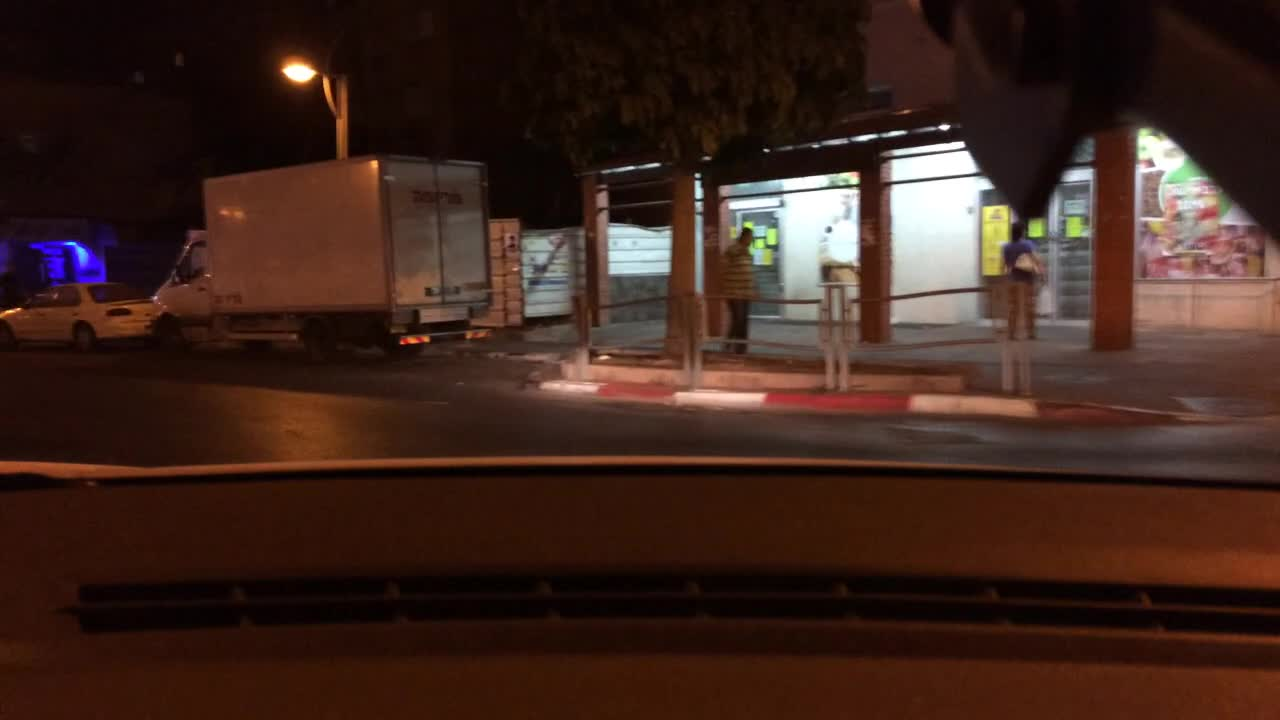car: (0, 280, 158, 351)
person: (993, 218, 1044, 341), (716, 227, 759, 359)
truck: (149, 152, 491, 361)
